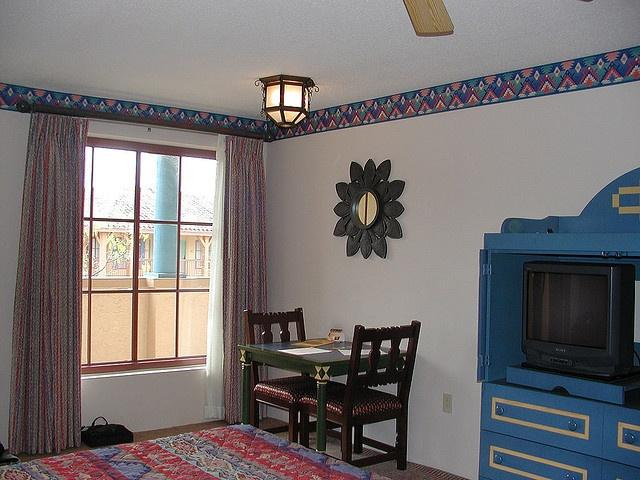Kursi: (298, 320, 420, 468), (243, 308, 303, 410)
Meja: (238, 338, 352, 396)
